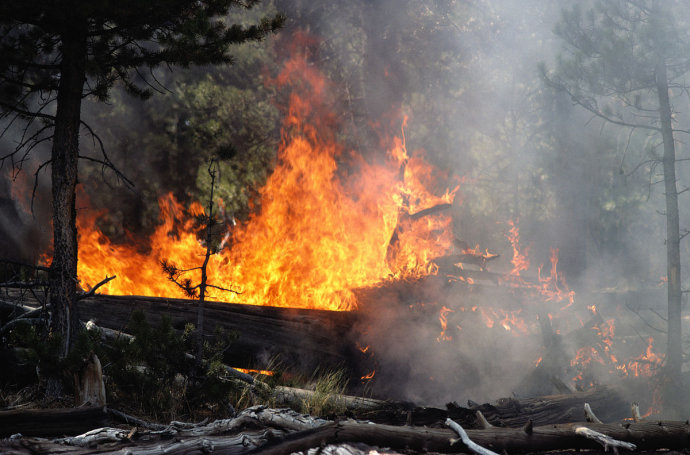fire: (72, 73, 569, 321)
